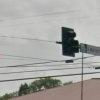Traffic light: (56, 22, 86, 66)
